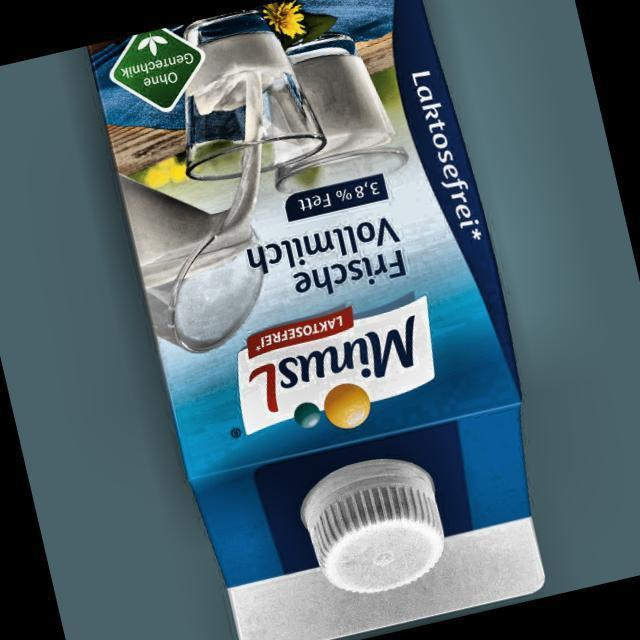cardboard: (85, 0, 571, 640)
